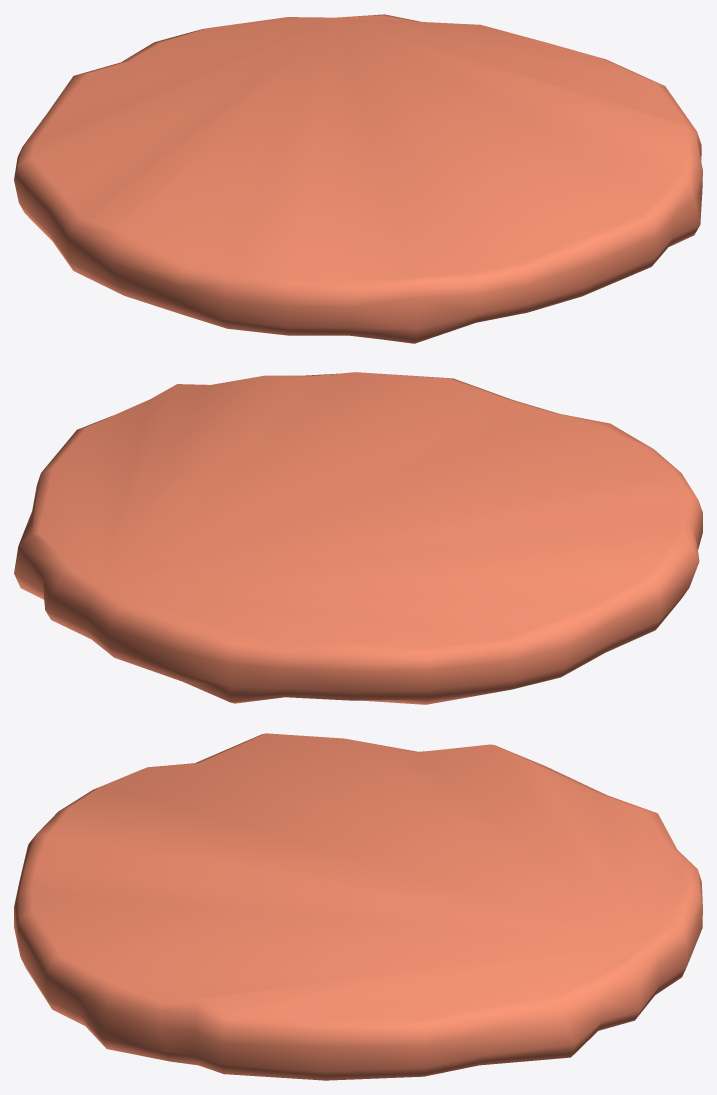
File: Patty.fbx
The picture shows the model from 3 angles, top to bottom: view 1: azimuth 30°, elevation 25°; view 2: azimuth 150°, elevation 25°; view 3: azimuth 270°, elevation 25°; orthographic projection. The views are drawn at different scales.
Parts seen in each view (by area): view 1: Patty; view 2: Patty; view 3: Patty.
Part boxes in pixels (x1,y1,x2,y2): Patty: [14, 14, 702, 343]; Patty: [14, 372, 702, 704]; Patty: [14, 733, 702, 1080].
Bounding box in the file's own units: 6.39 × 0.7871 × 6.21.
